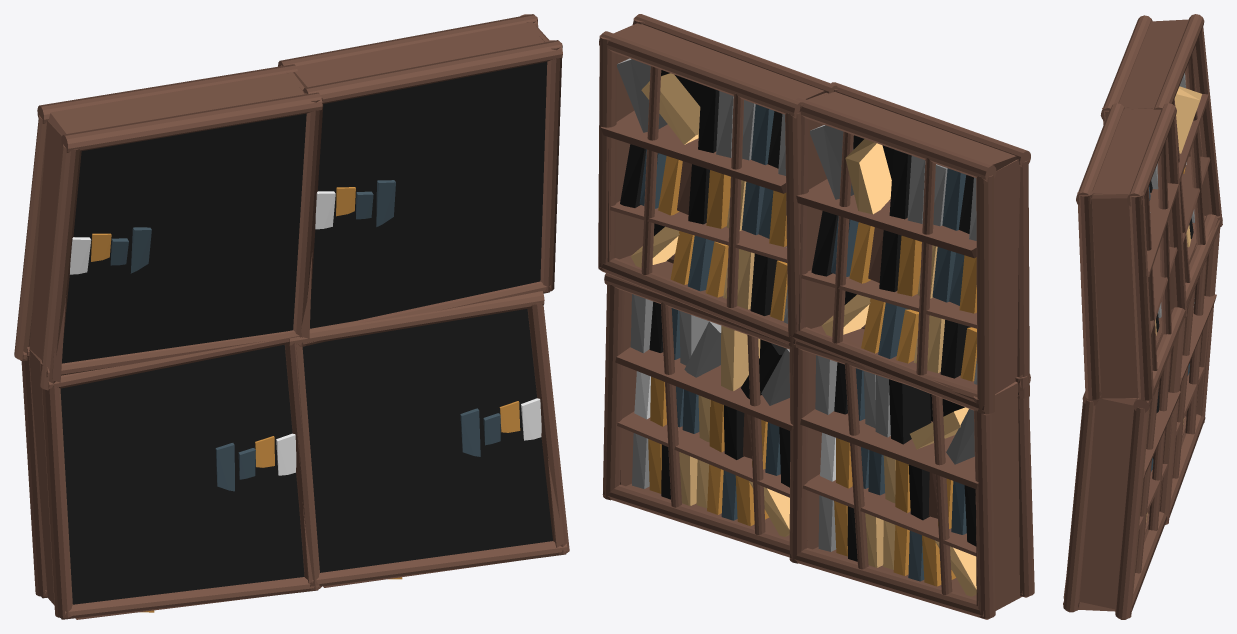
File: bookshelf.fbx
3 views of the same model, side by side, from view 1: azimuth 30°, elevation 25°; view 2: azimuth 150°, elevation 25°; view 3: azimuth 270°, elevation 25° (orthographic). The views are drawn at different scales.
Parts seen in each view (by area): view 1: group742438179, group1140854425, group505671632, group1699351704, group93335299, group192929773, group1884002018, group1277222791, group283918997, group1938683590, group687955143, group370983626 (+7 smaller); view 2: group742438179, group1140854425, group1277222791, group1146959302, group966664866, group633143504, group2040108076, group93335299, group1573889920, group1359852237, group1798431221, group1052635492 (+51 smaller); view 3: group742438179, group634255084, group1140854425, group2040108076, group93335299, group1938683590, group1146959302, group633143504, group192929773, group1497847545, group751481862, group227914780 (+11 smaller).
Boxes of the visible parts, x1,y1,x2,y2 form: group742438179: (278, 14, 562, 346); group1140854425: (21, 331, 321, 619); group505671632: (302, 309, 552, 572); group1699351704: (62, 113, 306, 363); group93335299: (48, 72, 304, 134); group192929773: (61, 92, 322, 152); group1884002018: (40, 144, 81, 390); group1277222791: (29, 120, 66, 382); group283918997: (312, 541, 567, 586); group1938683590: (527, 303, 569, 554); group687955143: (289, 291, 544, 345); group370983626: (293, 93, 322, 337); group742438179: (598, 14, 837, 347); group1140854425: (789, 324, 1034, 619); group1277222791: (994, 159, 1020, 394); group1146959302: (976, 175, 994, 413); group966664866: (615, 347, 793, 431); group633143504: (796, 97, 996, 181); group2040108076: (602, 284, 624, 500); group93335299: (807, 92, 1016, 170); group1573889920: (796, 179, 976, 258); group1359852237: (603, 484, 789, 557); group1798431221: (790, 327, 990, 415); group1052635492: (617, 411, 789, 497); group742438179: (1076, 103, 1187, 401); group634255084: (1063, 398, 1133, 609); group1140854425: (1159, 214, 1221, 524); group2040108076: (1115, 407, 1149, 618); group93335299: (1119, 19, 1188, 109); group1938683590: (1063, 400, 1095, 611); group1146959302: (1193, 26, 1222, 226); group633143504: (1153, 14, 1204, 109); group192929773: (1100, 15, 1152, 120); group1497847545: (1185, 51, 1205, 244); group751481862: (1148, 351, 1171, 530); group227914780: (1135, 381, 1159, 573).
Bounding box in the file's own units: 102 × 103 × 35.15.
